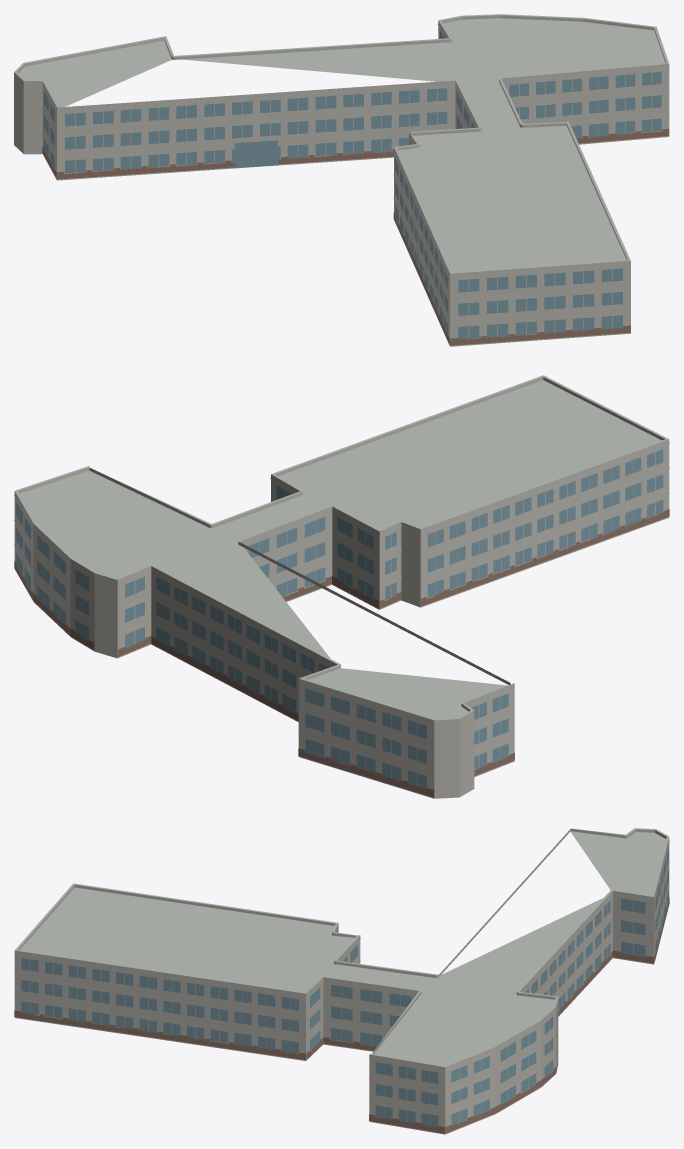
The model's file is public-c8222da1-c3ed-4354-82bf-ea6f30b6812a.glb.
3 views of the same model, one above another, from view 1: azimuth 30°, elevation 25°; view 2: azimuth 150°, elevation 25°; view 3: azimuth 270°, elevation 25° (orthographic). The views are drawn at different scales.
Visible parts, largest first — view 1: public-c8222da1-c3ed-4354-82bf-ea6f30b6812a; view 2: public-c8222da1-c3ed-4354-82bf-ea6f30b6812a; view 3: public-c8222da1-c3ed-4354-82bf-ea6f30b6812a.
Boxes of the visible parts, x1=… form: public-c8222da1-c3ed-4354-82bf-ea6f30b6812a: x1=14, y1=14, x2=669, y2=346; public-c8222da1-c3ed-4354-82bf-ea6f30b6812a: x1=14, y1=375, x2=669, y2=798; public-c8222da1-c3ed-4354-82bf-ea6f30b6812a: x1=14, y1=828, x2=669, y2=1134.
Bounding box in the file's own units: 69.96 × 9.15 × 80.67.
